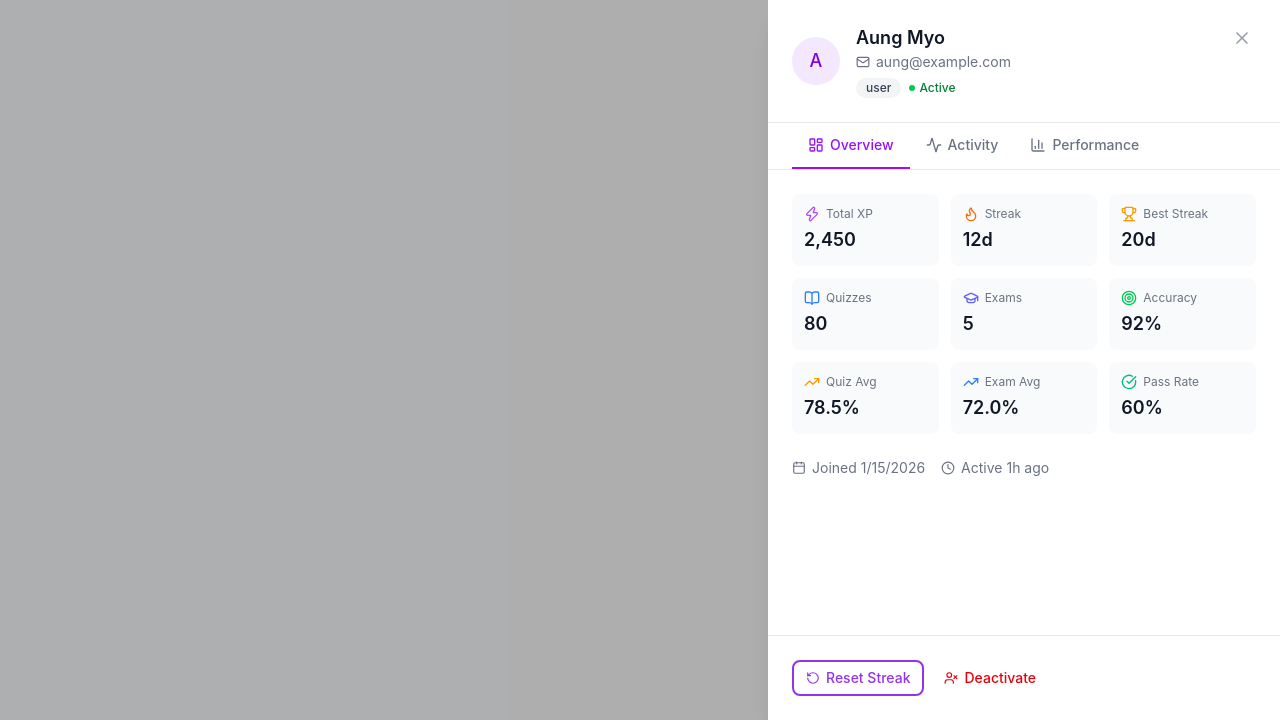
Test: UserDrawer › shows deactivate confirmation
Click the button "Deactivate" at (990, 678), box [932, 660, 1048, 696]
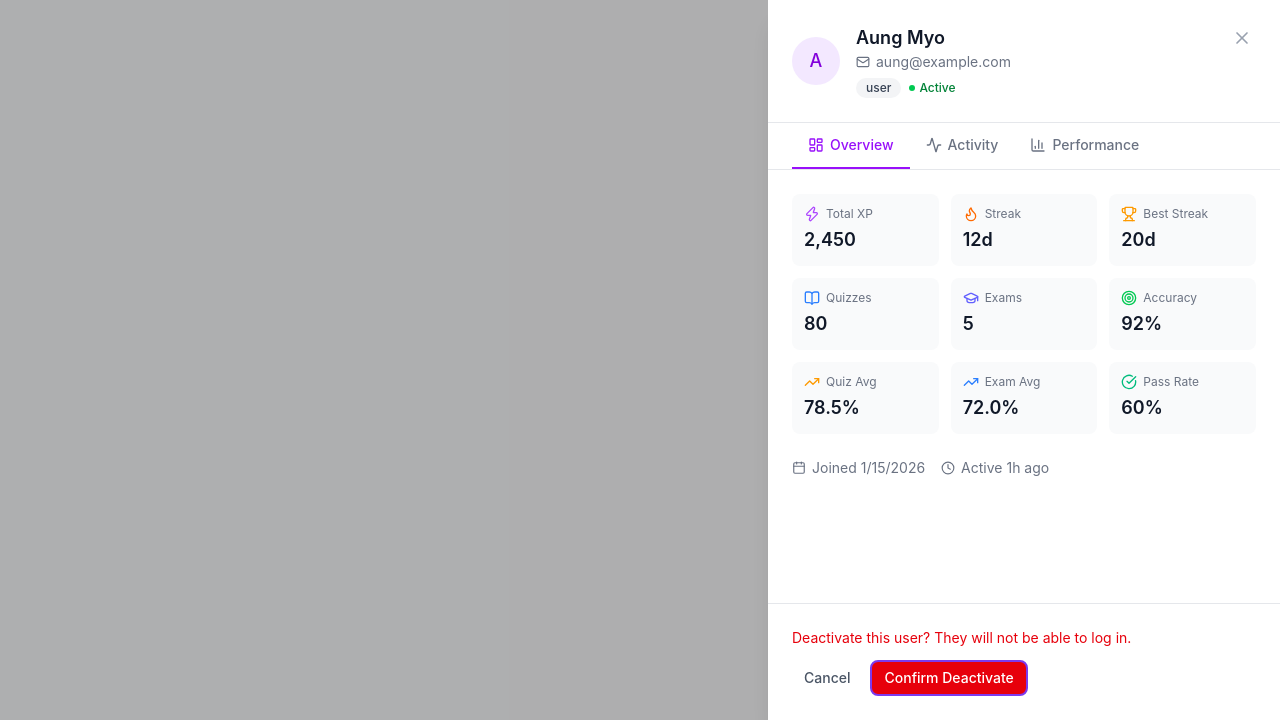
Now the text "Deactivate this user? They will not be able to log in." is shown, box [792, 629, 1131, 646]
